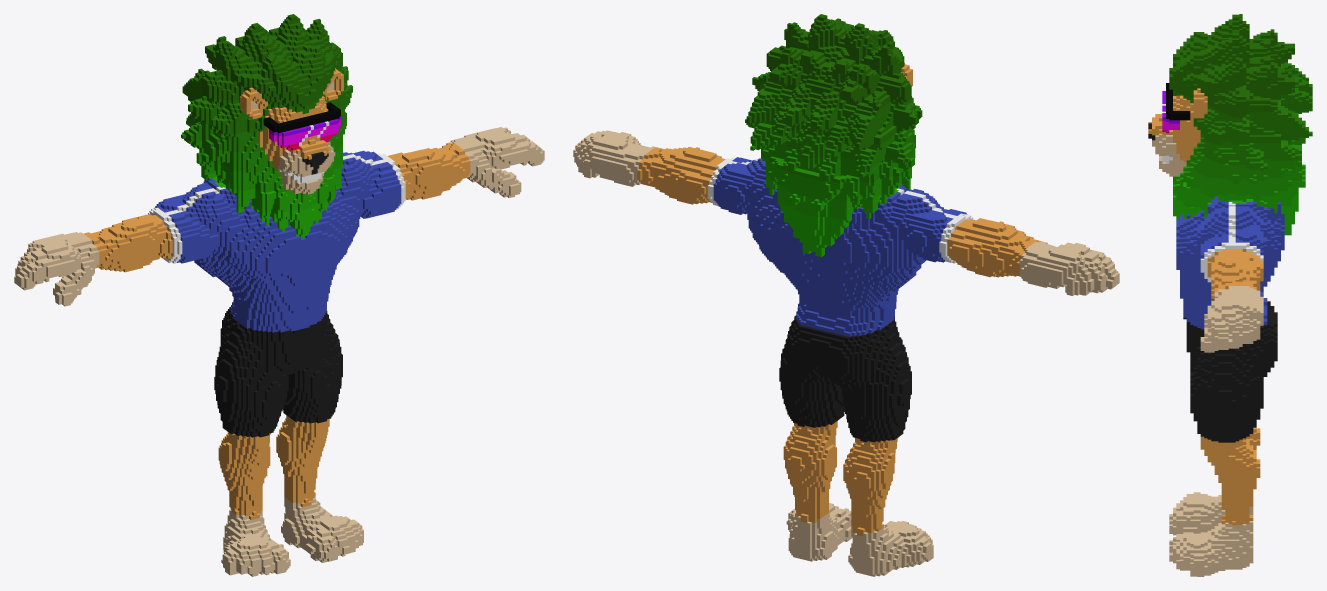
Rendered from 919-C4M0GEF7.glb.
The picture shows the model from 3 angles, left to right: view 1: azimuth 30°, elevation 25°; view 2: azimuth 150°, elevation 25°; view 3: azimuth 270°, elevation 25°; orthographic projection. The views are drawn at different scales.
Visible parts, largest first — view 1: big_smile; view 2: big_smile; view 3: big_smile.
Boxes of the visible parts, x1,y1,x2,y2 form: big_smile: [14, 14, 544, 576]; big_smile: [573, 14, 1119, 576]; big_smile: [1148, 14, 1312, 576].
Size of the model in its own units: 17.2 by 16.5 by 4.7.
5 materials, 5 textured.
